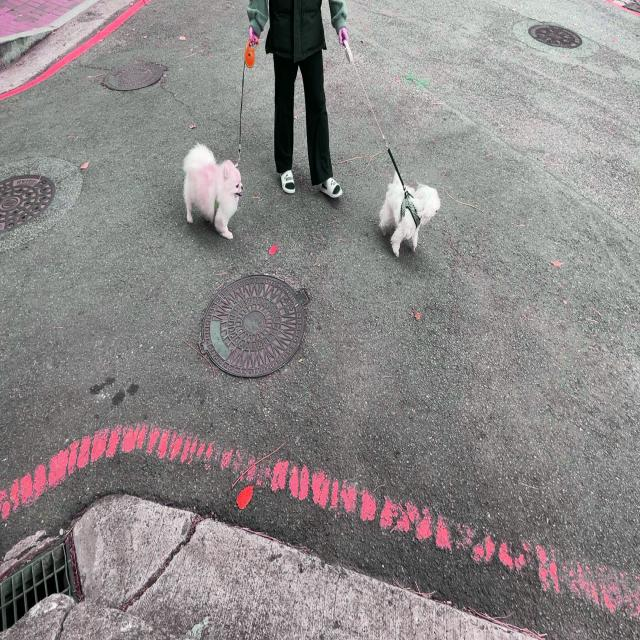Leashed_Dog: (309, 29, 441, 256), (183, 26, 291, 238)
